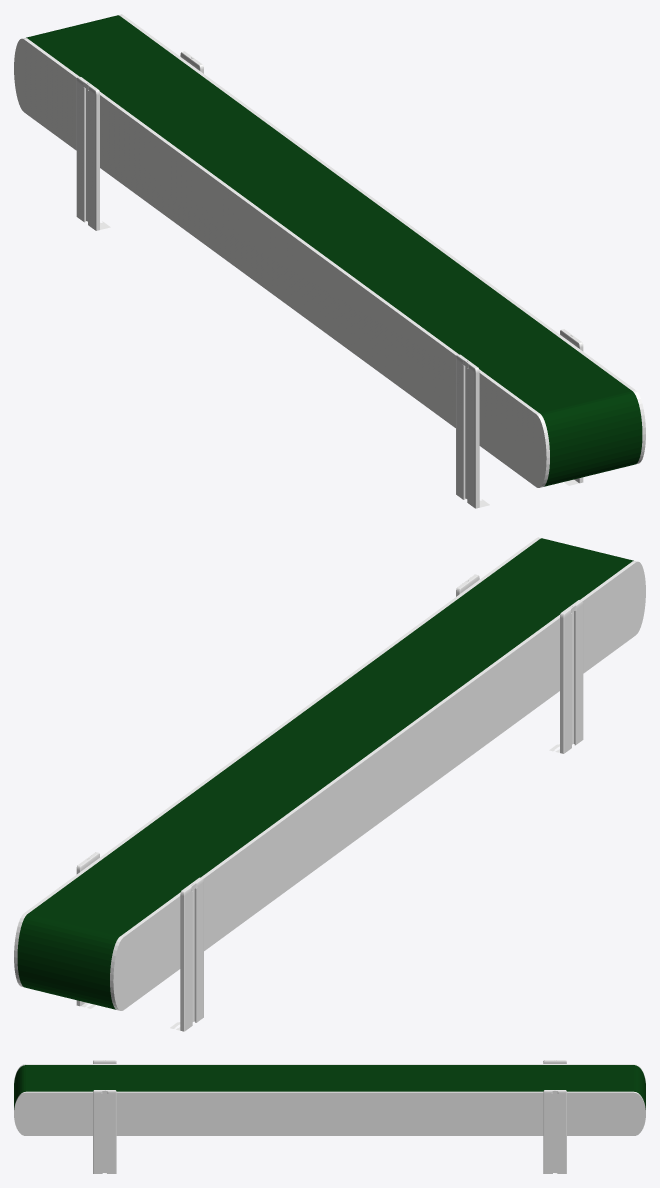
The model's file is conveyor_belt1.dae.
3 views of the same model, one above another, from view 1: azimuth 30°, elevation 25°; view 2: azimuth 150°, elevation 25°; view 3: azimuth 270°, elevation 25° (orthographic). The views are drawn at different scales.
Parts seen in each view (by area): view 1: node.001; view 2: node.001; view 3: node.001.
Boxes of the visible parts, bbox=[...] form: node.001: bbox=[14, 14, 645, 508]; node.001: bbox=[14, 537, 645, 1031]; node.001: bbox=[14, 1060, 645, 1173].
Size of the model in its own units: 0.0699 by 0.5952 by 0.086.
